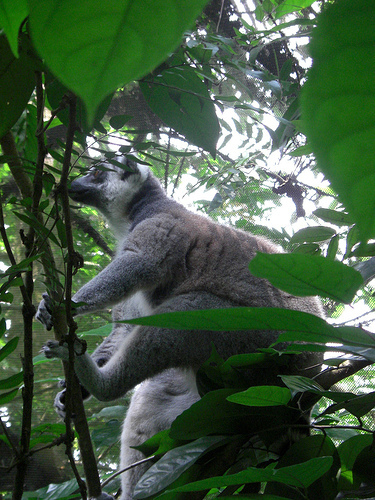cat: (36, 152, 326, 498)
